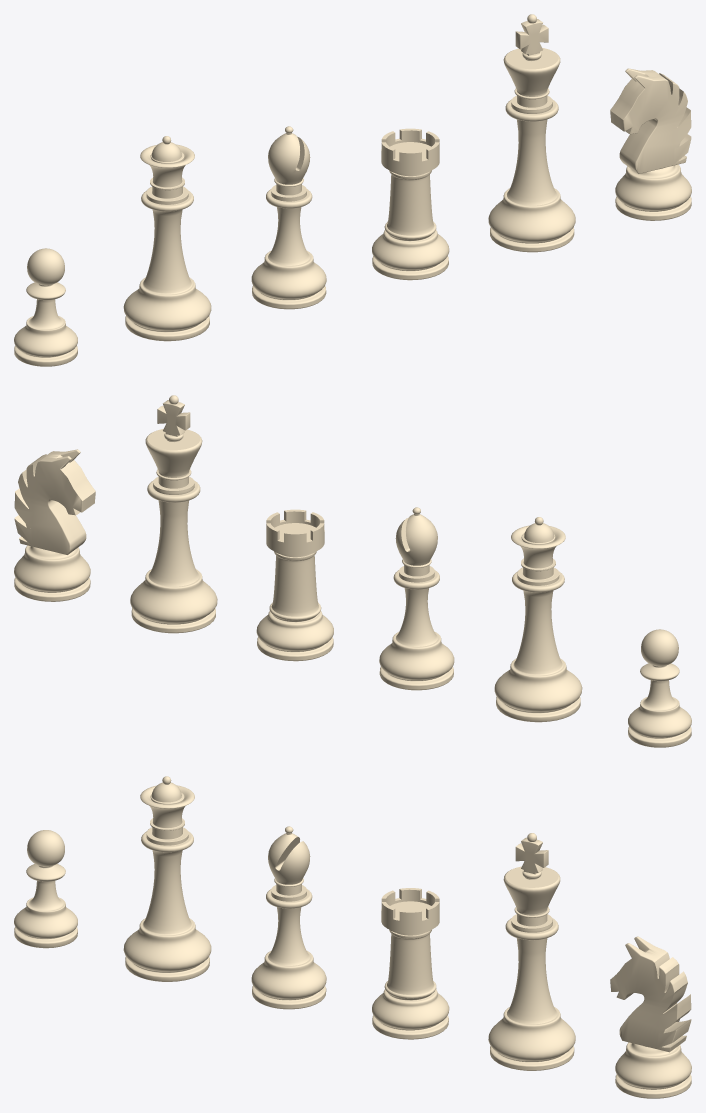
Rendered from ChessPieces.fbx.
3 renders of one model, top to bottom at view 1: azimuth 30°, elevation 25°; view 2: azimuth 150°, elevation 25°; view 3: azimuth 330°, elevation 25°, orthographic.
Visible parts, largest first — view 1: King, Knight, Queen, Rook, Bishop, Pawn; view 2: King, Knight, Queen, Rook, Bishop, Pawn; view 3: King, Knight, Queen, Rook, Bishop, Pawn.
Boxes of the visible parts, x1,y1,x2,y2 form: King: [488, 14, 575, 252]; Knight: [610, 68, 691, 220]; Queen: [123, 136, 211, 341]; Rook: [372, 128, 449, 280]; Bishop: [251, 126, 326, 309]; Pawn: [14, 248, 77, 366]; King: [130, 395, 217, 633]; Knight: [14, 449, 95, 601]; Queen: [494, 517, 582, 722]; Rook: [256, 509, 333, 661]; Bishop: [379, 507, 454, 690]; Pawn: [628, 629, 691, 747]; King: [488, 833, 575, 1070]; Knight: [610, 936, 691, 1098]; Queen: [123, 776, 211, 981]; Rook: [372, 888, 449, 1039]; Bishop: [251, 826, 326, 1009]; Pawn: [14, 830, 77, 948].
Size of the model in its own units: 550 by 174 by 62.7.
